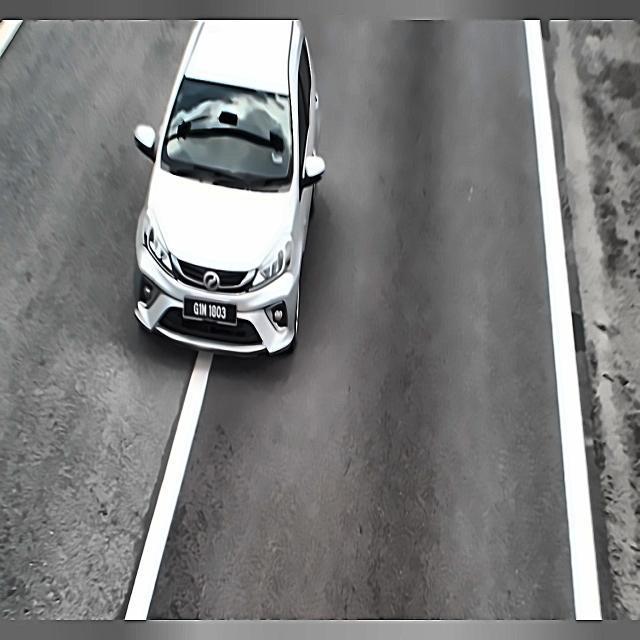car: (180, 291, 241, 336)
